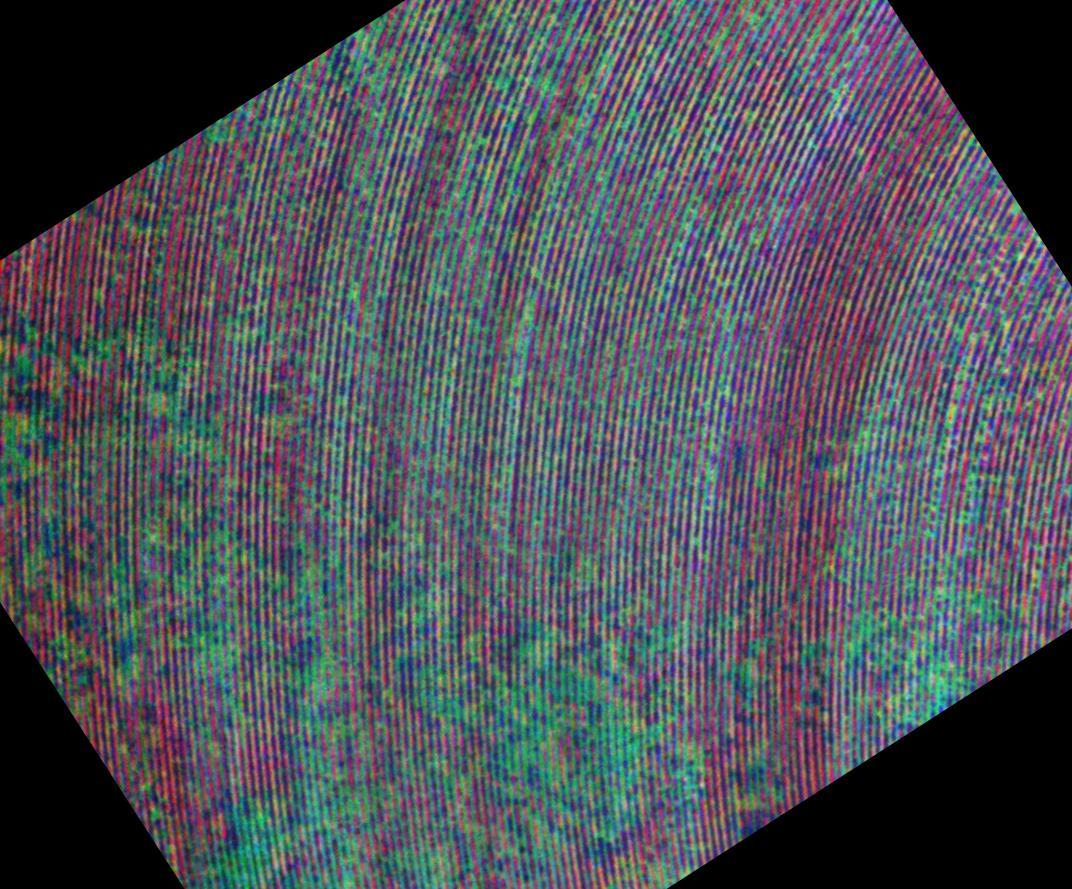dc: (516, 380, 521, 386), (658, 727, 662, 732), (536, 704, 540, 708), (980, 606, 983, 610), (851, 643, 854, 647)
